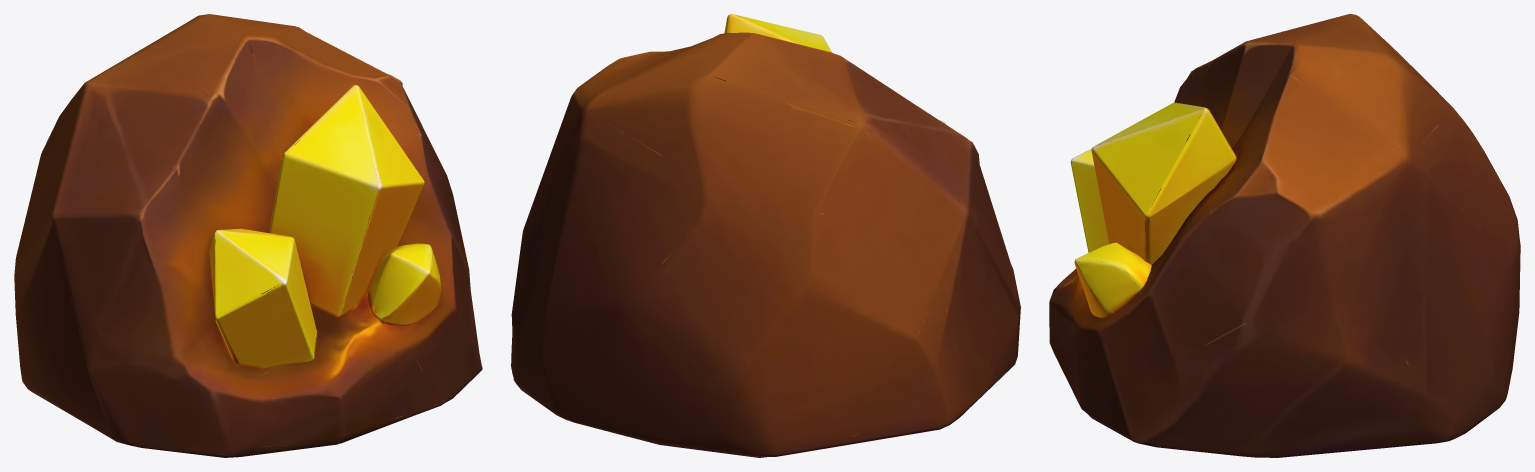
File: GOLD_Ore.glb
The picture shows the model from 3 angles, left to right: view 1: azimuth 30°, elevation 25°; view 2: azimuth 150°, elevation 25°; view 3: azimuth 270°, elevation 25°; orthographic projection. The views are drawn at different scales.
Visible parts, largest first — view 1: geometry_0; view 2: geometry_0; view 3: geometry_0.
Part boxes in pixels (left/top/right/bottom): geometry_0: left=14, top=14, right=482, bottom=457; geometry_0: left=511, top=14, right=1020, bottom=457; geometry_0: left=1049, top=14, right=1520, bottom=457.
Bounding box in the file's own units: 0.9561 × 0.7183 × 0.9521.
Materials: 1 (1 with a texture image).
